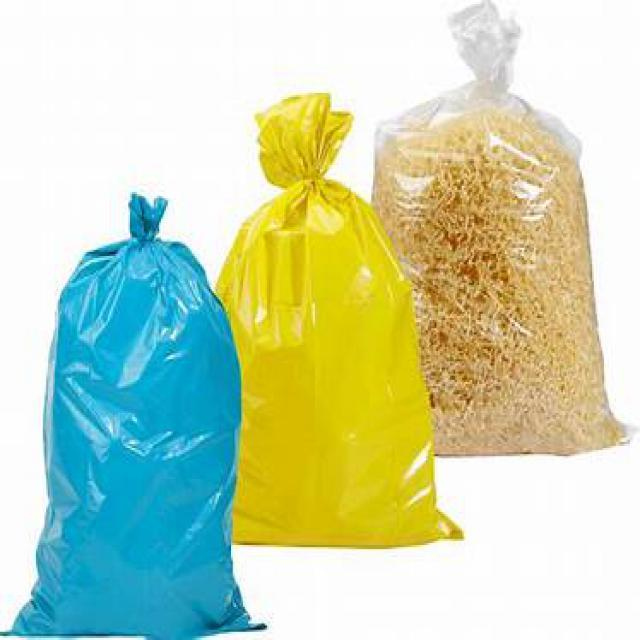waste: (24, 187, 250, 635), (222, 97, 443, 553)
